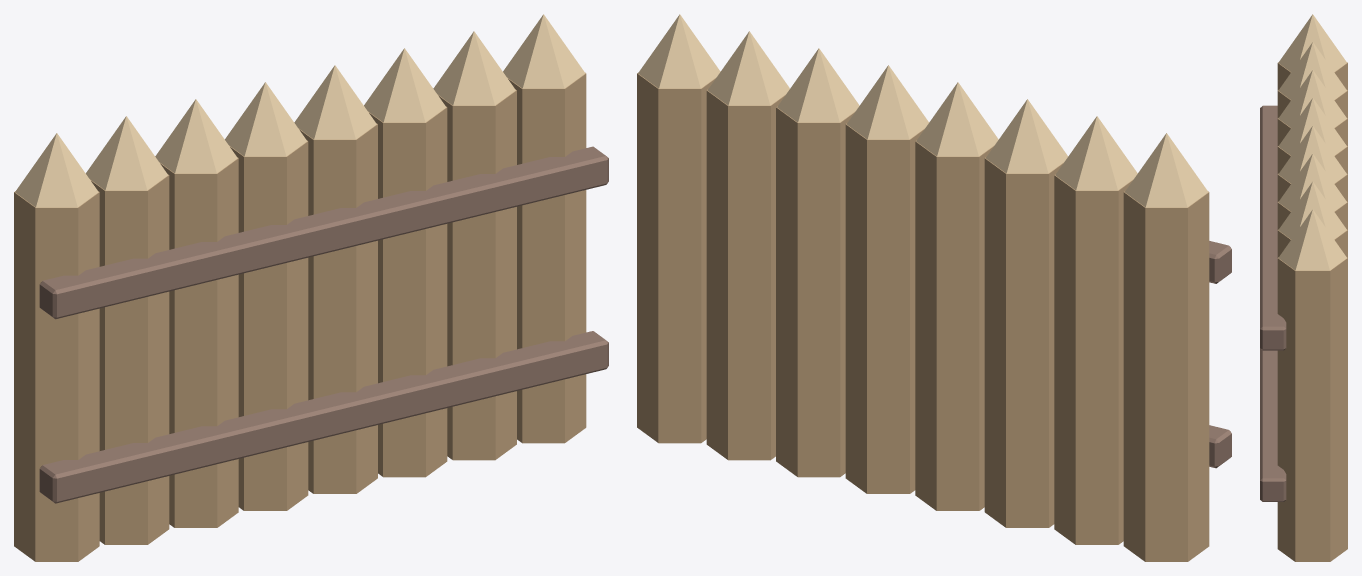
File: walls.fbx
3 views of the same model, side by side, from view 1: azimuth 30°, elevation 25°; view 2: azimuth 150°, elevation 25°; view 3: azimuth 270°, elevation 25° (orthographic). The views are drawn at different scales.
Visible parts, largest first — view 1: walls_mesh; view 2: walls_mesh; view 3: walls_mesh.
Boxes of the visible parts, x1=… form: walls_mesh: x1=14, y1=14, x2=608, y2=561; walls_mesh: x1=637, y1=14, x2=1231, y2=561; walls_mesh: x1=1260, y1=14, x2=1347, y2=561.
Bounding box in the file's own units: 2.4 × 1.71 × 0.4.
